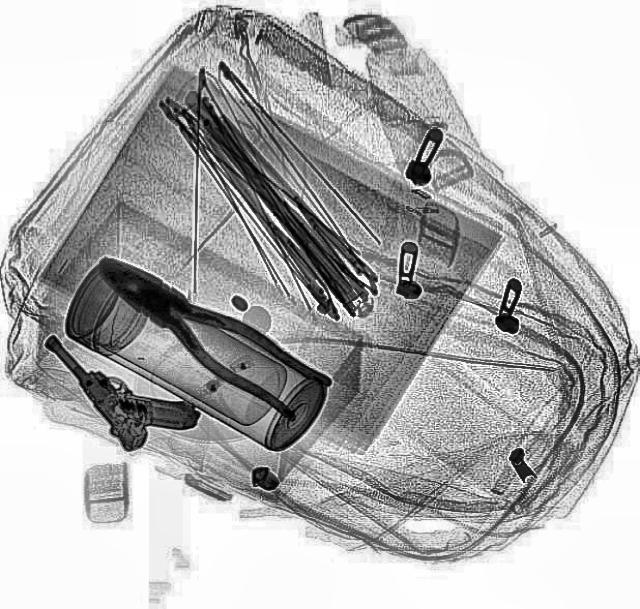Gun: (36, 300, 205, 464)
Pliers: (79, 235, 334, 426)
